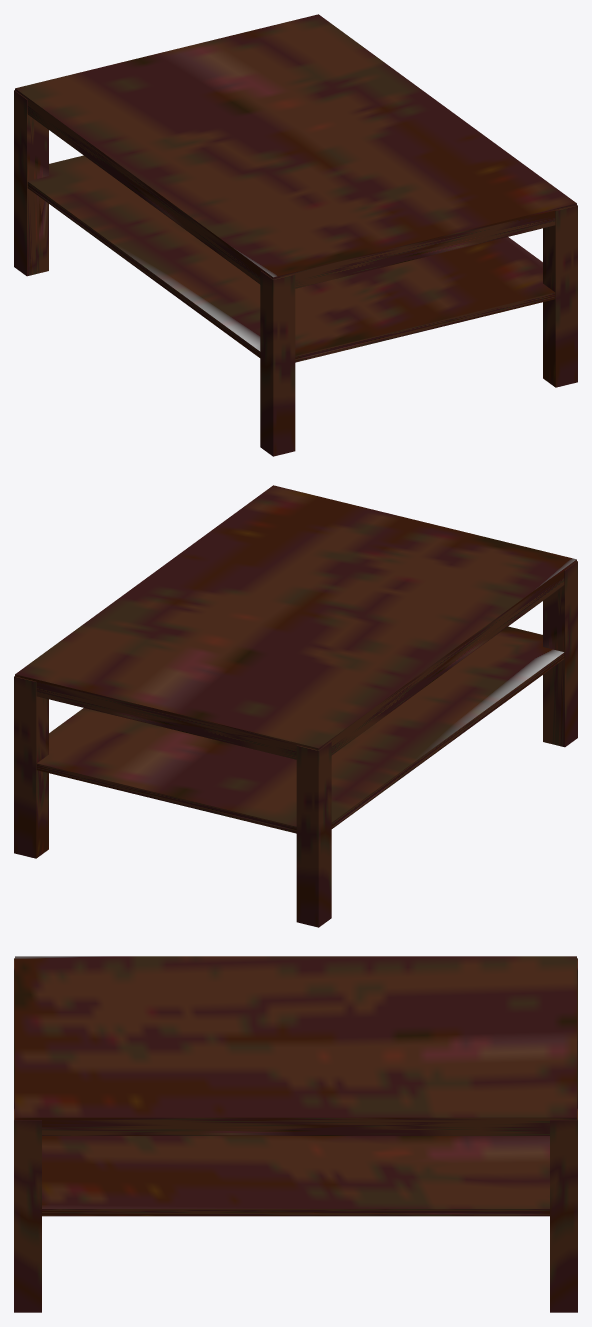
File: LivingRoomTable.fbx
The picture shows the model from 3 angles, top to bottom: view 1: azimuth 30°, elevation 25°; view 2: azimuth 150°, elevation 25°; view 3: azimuth 270°, elevation 25°; orthographic projection. The views are drawn at different scales.
Parts seen in each view (by area): view 1: LivingRoomTable; view 2: LivingRoomTable; view 3: LivingRoomTable.
Part boxes in pixels (box(x1,y1,x2,y2)): LivingRoomTable: box(14, 14, 577, 456); LivingRoomTable: box(14, 485, 577, 927); LivingRoomTable: box(14, 956, 577, 1312).
Bounding box in the file's own units: 361 × 202 × 532.
